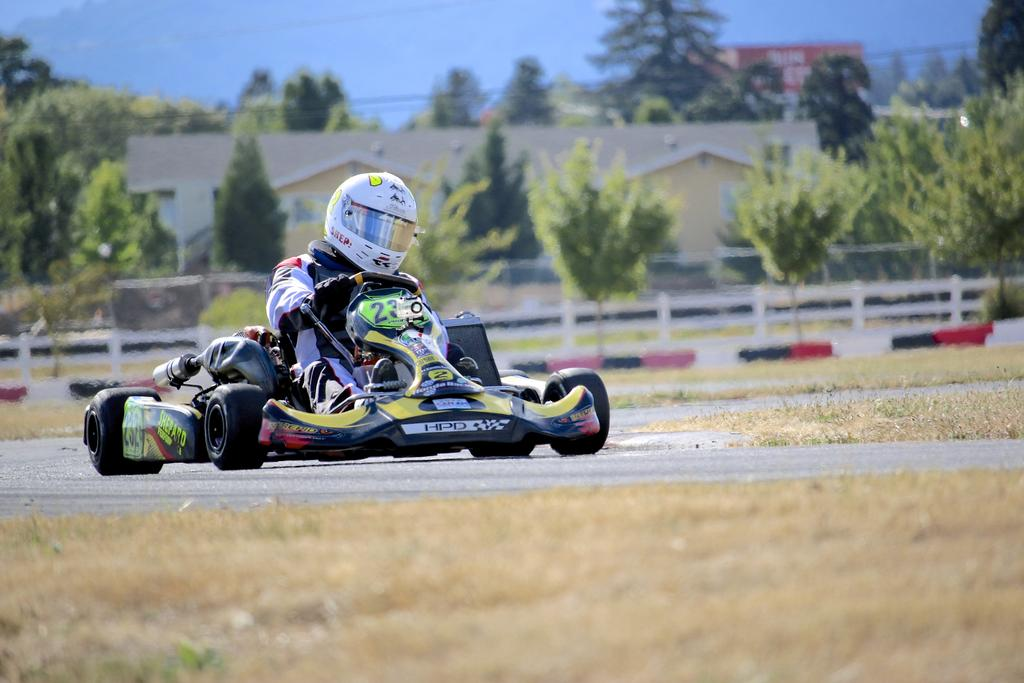helmet: (324, 171, 418, 280)
